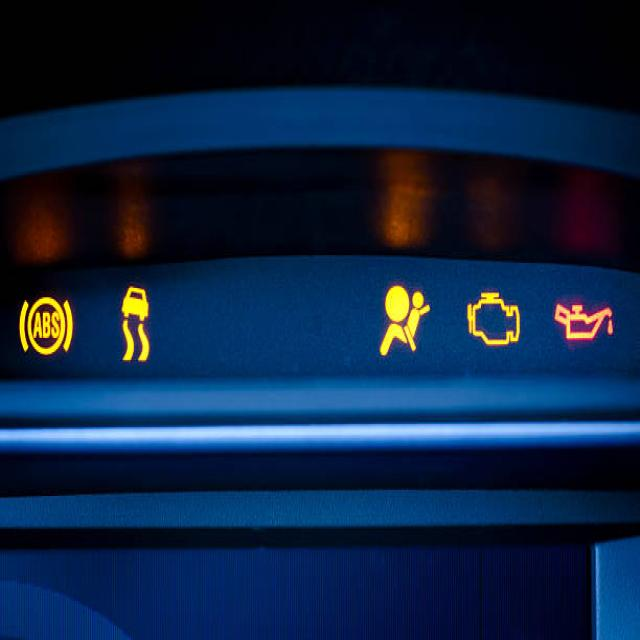Anti Lock Braking System: (17, 293, 76, 360)
Check Engine: (464, 286, 524, 351)
Electronic Stability Problem -ESP-: (118, 280, 154, 366)
Low Engine Oil Warning Light: (551, 298, 616, 344)
SRS-Airbag: (376, 278, 434, 358)
